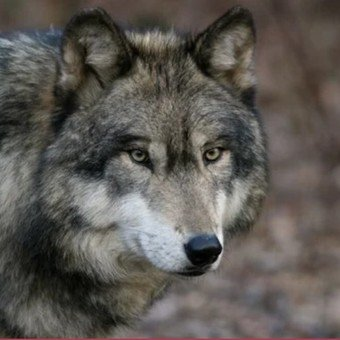Lobo: (5, 9, 274, 320)
